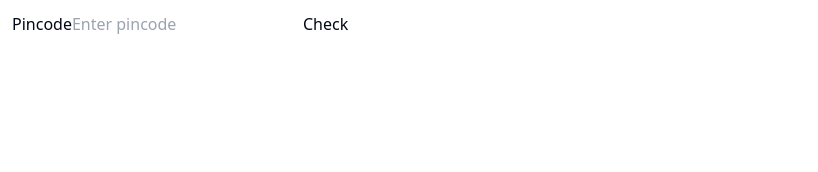
Scenario: PincodeChecker look="clean" › leaves a pincode it cannot vouch for to checkout, with no date or COD
Type "999999" into the field with placeholder "Enter pincode".
click(187, 24); type("999999")  # box [72, 12, 303, 36]
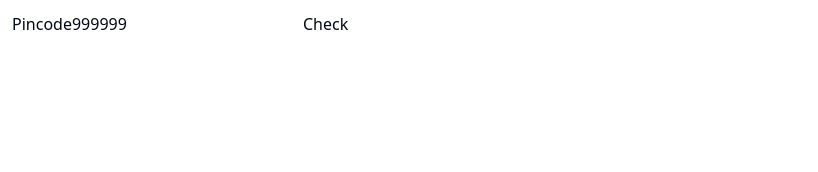
Click the button "Check".
click(326, 24)  # box [303, 12, 348, 36]
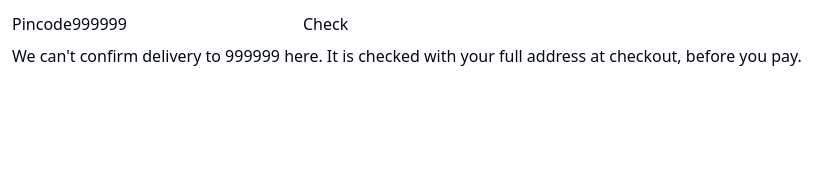
Result: the text "We can't confirm delivery to 999999 here. It is checked with your full address at checkout, before you pay." is shown at [12, 45, 802, 67]
